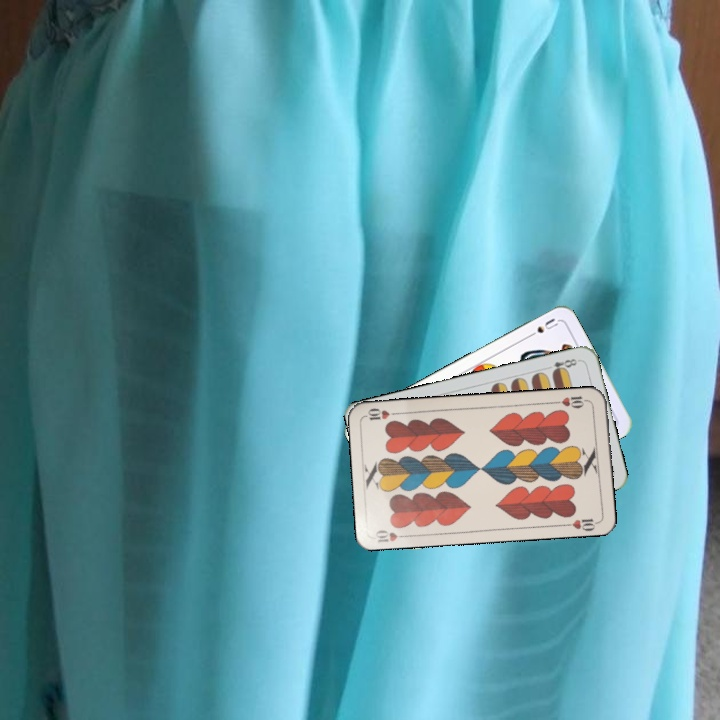E8: (548, 355, 582, 376)
H10: (551, 392, 592, 411), (371, 526, 411, 545)
SU: (523, 314, 561, 341)
